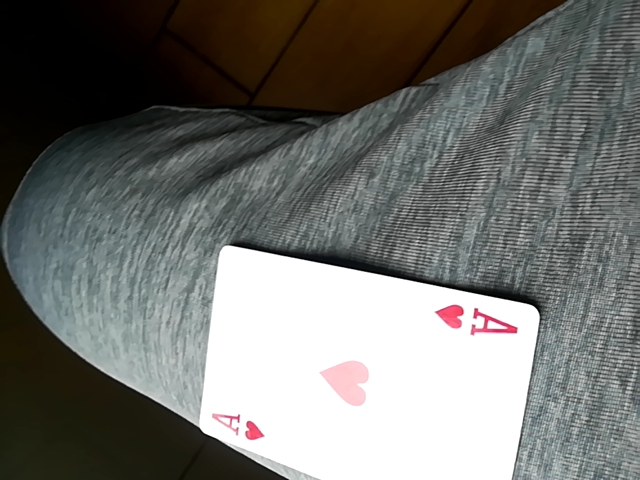hx a: (197, 243, 540, 479)
